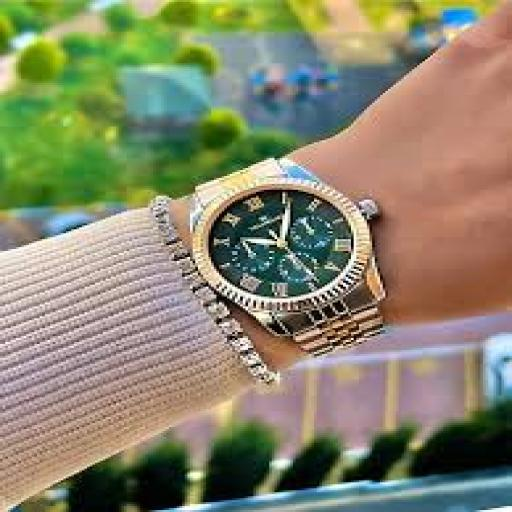KolSaati: (183, 150, 398, 358)
